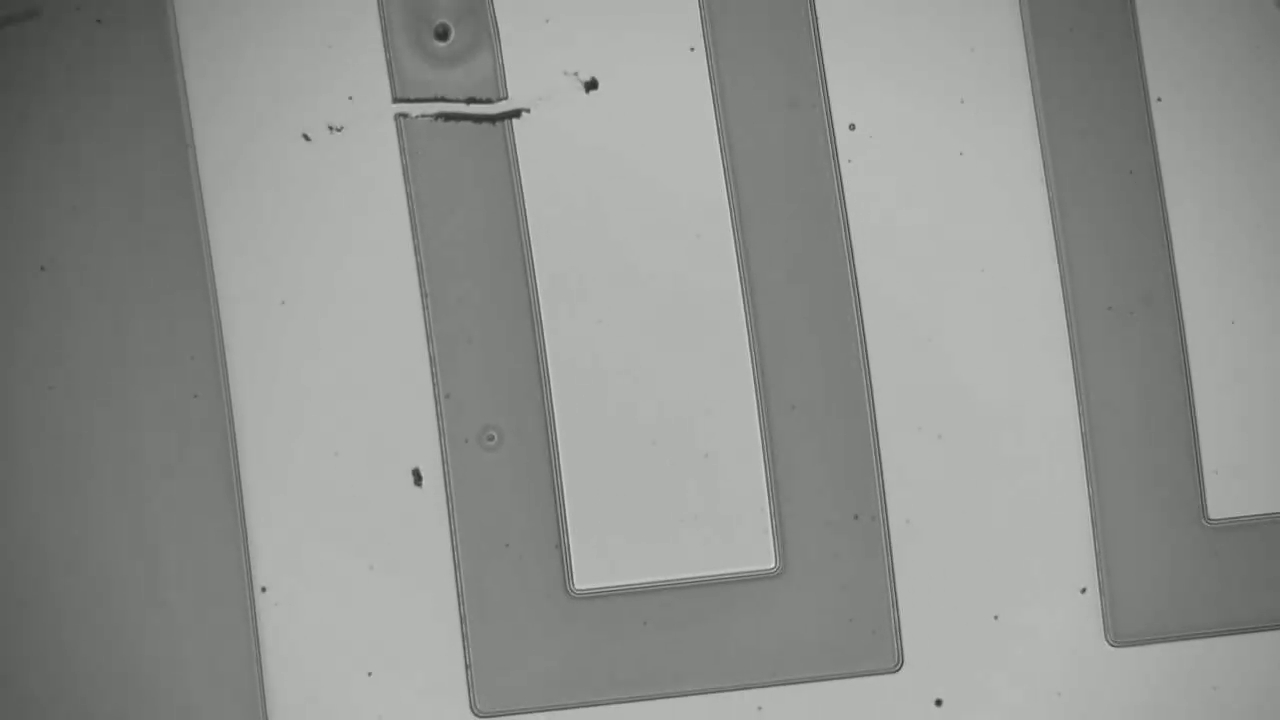Short_circuit: (362, 75, 538, 147)
